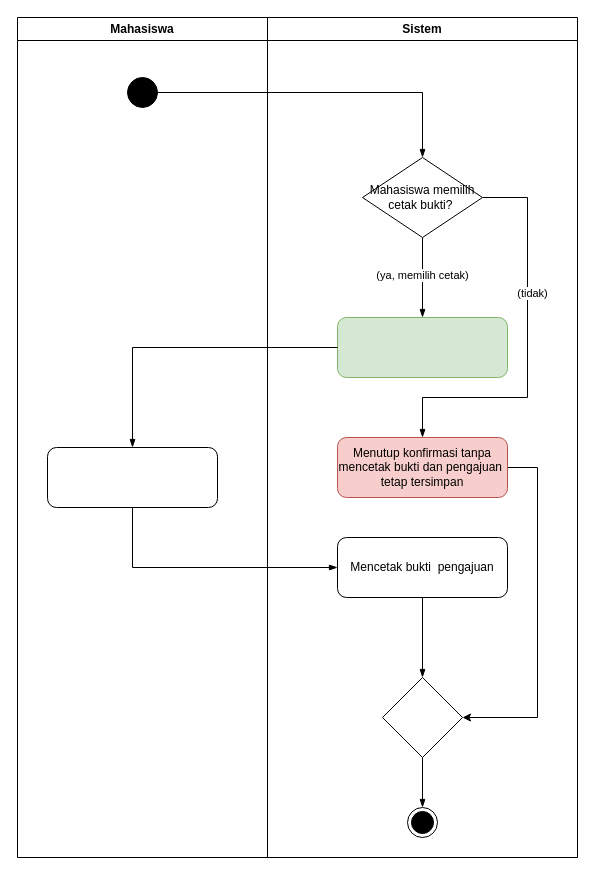
This 595x875 diagram has some shape labels left out. Here are the shapes that lost their labels. From the top down, the box of each, then its label:
(336, 316, 508, 378): Menampilkan bukti pengajuan dengan nomor pengajuan dan status menunggu keputusan
(46, 446, 218, 508): Mengkonfirmasi pencetakan
